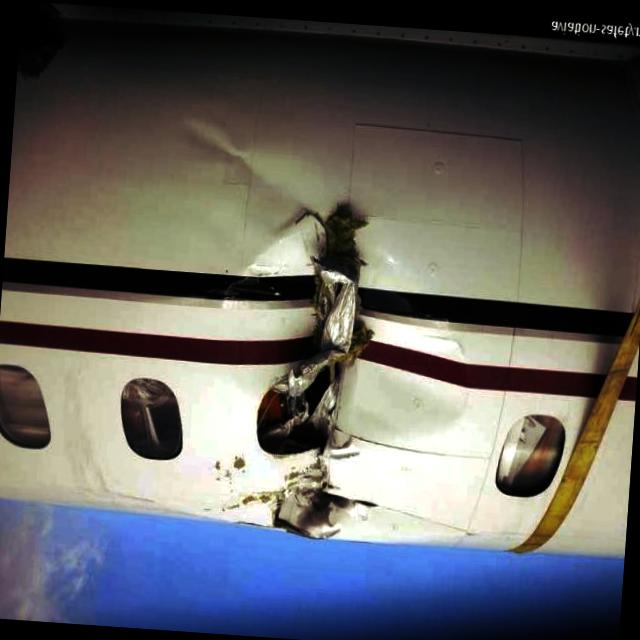crack: (238, 180, 404, 566)
dent: (350, 254, 470, 443), (174, 113, 333, 222)
